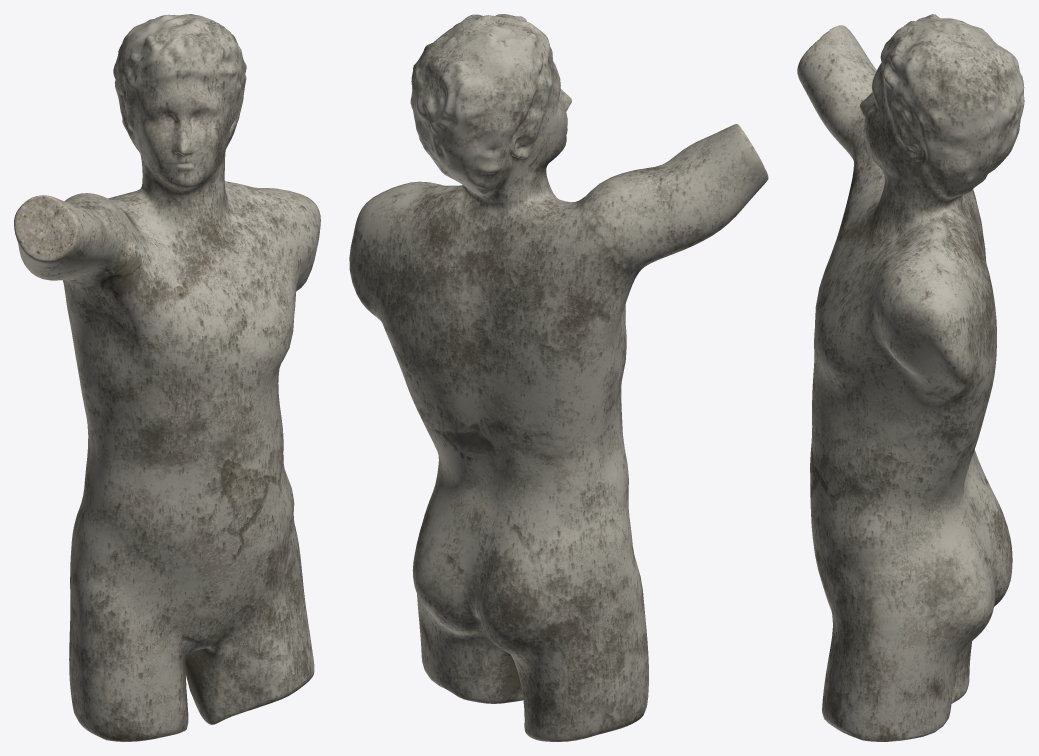
3 renders of one model, left to right at view 1: azimuth 30°, elevation 25°; view 2: azimuth 150°, elevation 25°; view 3: azimuth 270°, elevation 25°, orthographic. The views are drawn at different scales.
Parts seen in each view (by area): view 1: Statue; view 2: Statue; view 3: Statue.
Part boxes in pixels (x1,y1,x2,y2): Statue: [14, 14, 320, 741]; Statue: [349, 14, 768, 741]; Statue: [797, 14, 1024, 741].
Size of the model in its own units: 26 by 49.09 by 14.25.
Materials: 2 (2 with a texture image).
